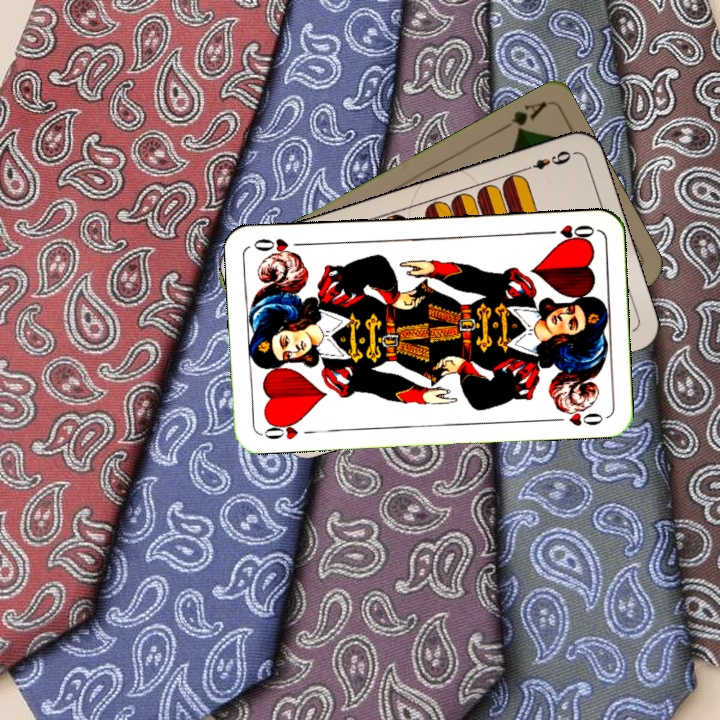E9: (519, 146, 574, 174)
GA: (494, 97, 548, 137)
HO: (539, 220, 597, 245), (258, 416, 304, 443)
